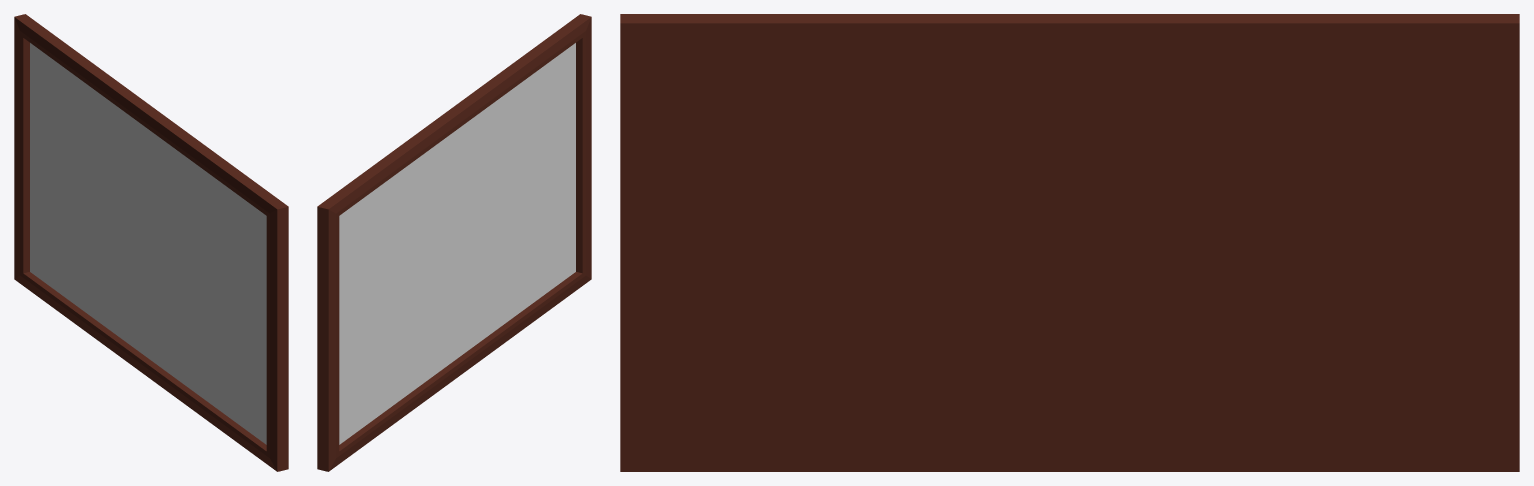
Rendered from titleBoard.fbx.
3 views of the same model, side by side, from view 1: azimuth 30°, elevation 25°; view 2: azimuth 150°, elevation 25°; view 3: azimuth 270°, elevation 25° (orthographic). The views are drawn at different scales.
Parts seen in each view (by area): view 1: Cube; view 2: Cube; view 3: Cube.
Part boxes in pixels (<box>): Cube: <box>14,14,288,471</box>; Cube: <box>317,14,591,471</box>; Cube: <box>620,14,1519,471</box>.
Size of the model in its own units: 0.2159 by 4.43 by 8.05.
